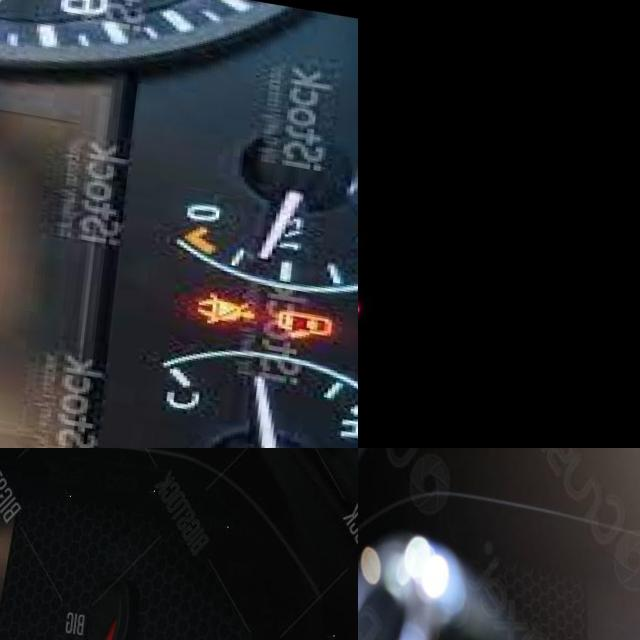Seat Belt: (193, 282, 268, 320)
